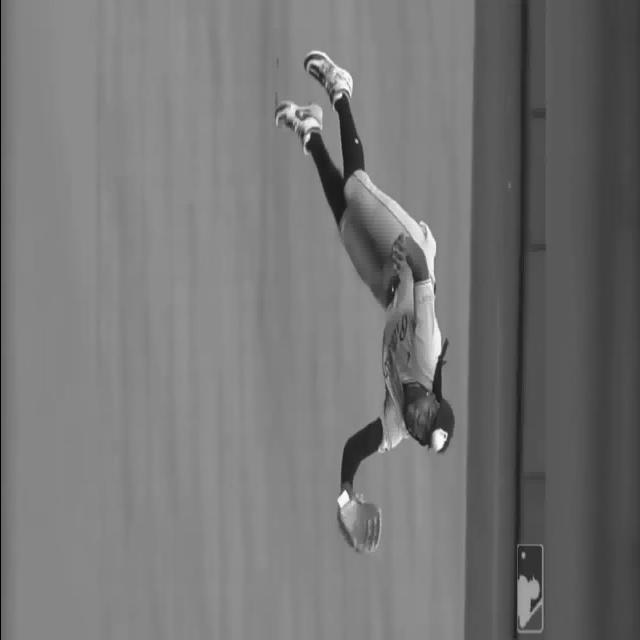baseball: (432, 427, 442, 450)
baseball_glove: (334, 494, 380, 554)
shoe: (300, 52, 354, 106), (270, 103, 321, 144)
